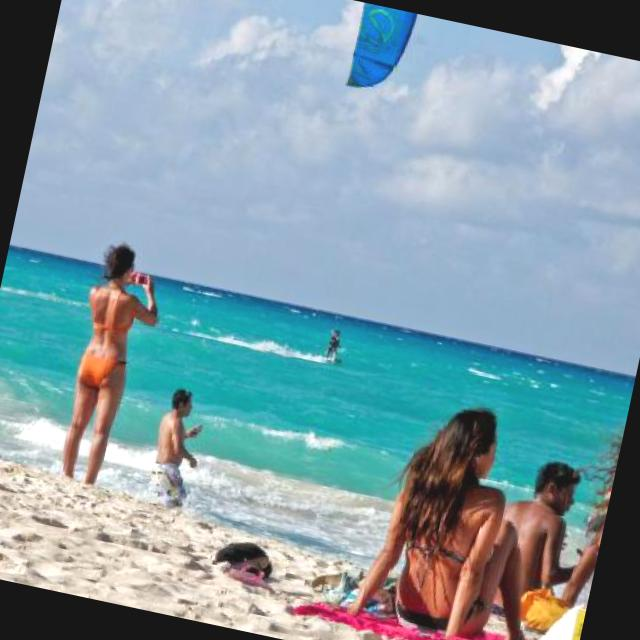Person: (342, 379, 580, 640), (48, 232, 180, 494), (490, 452, 601, 608), (544, 426, 623, 608), (146, 382, 213, 508), (326, 326, 348, 362)
